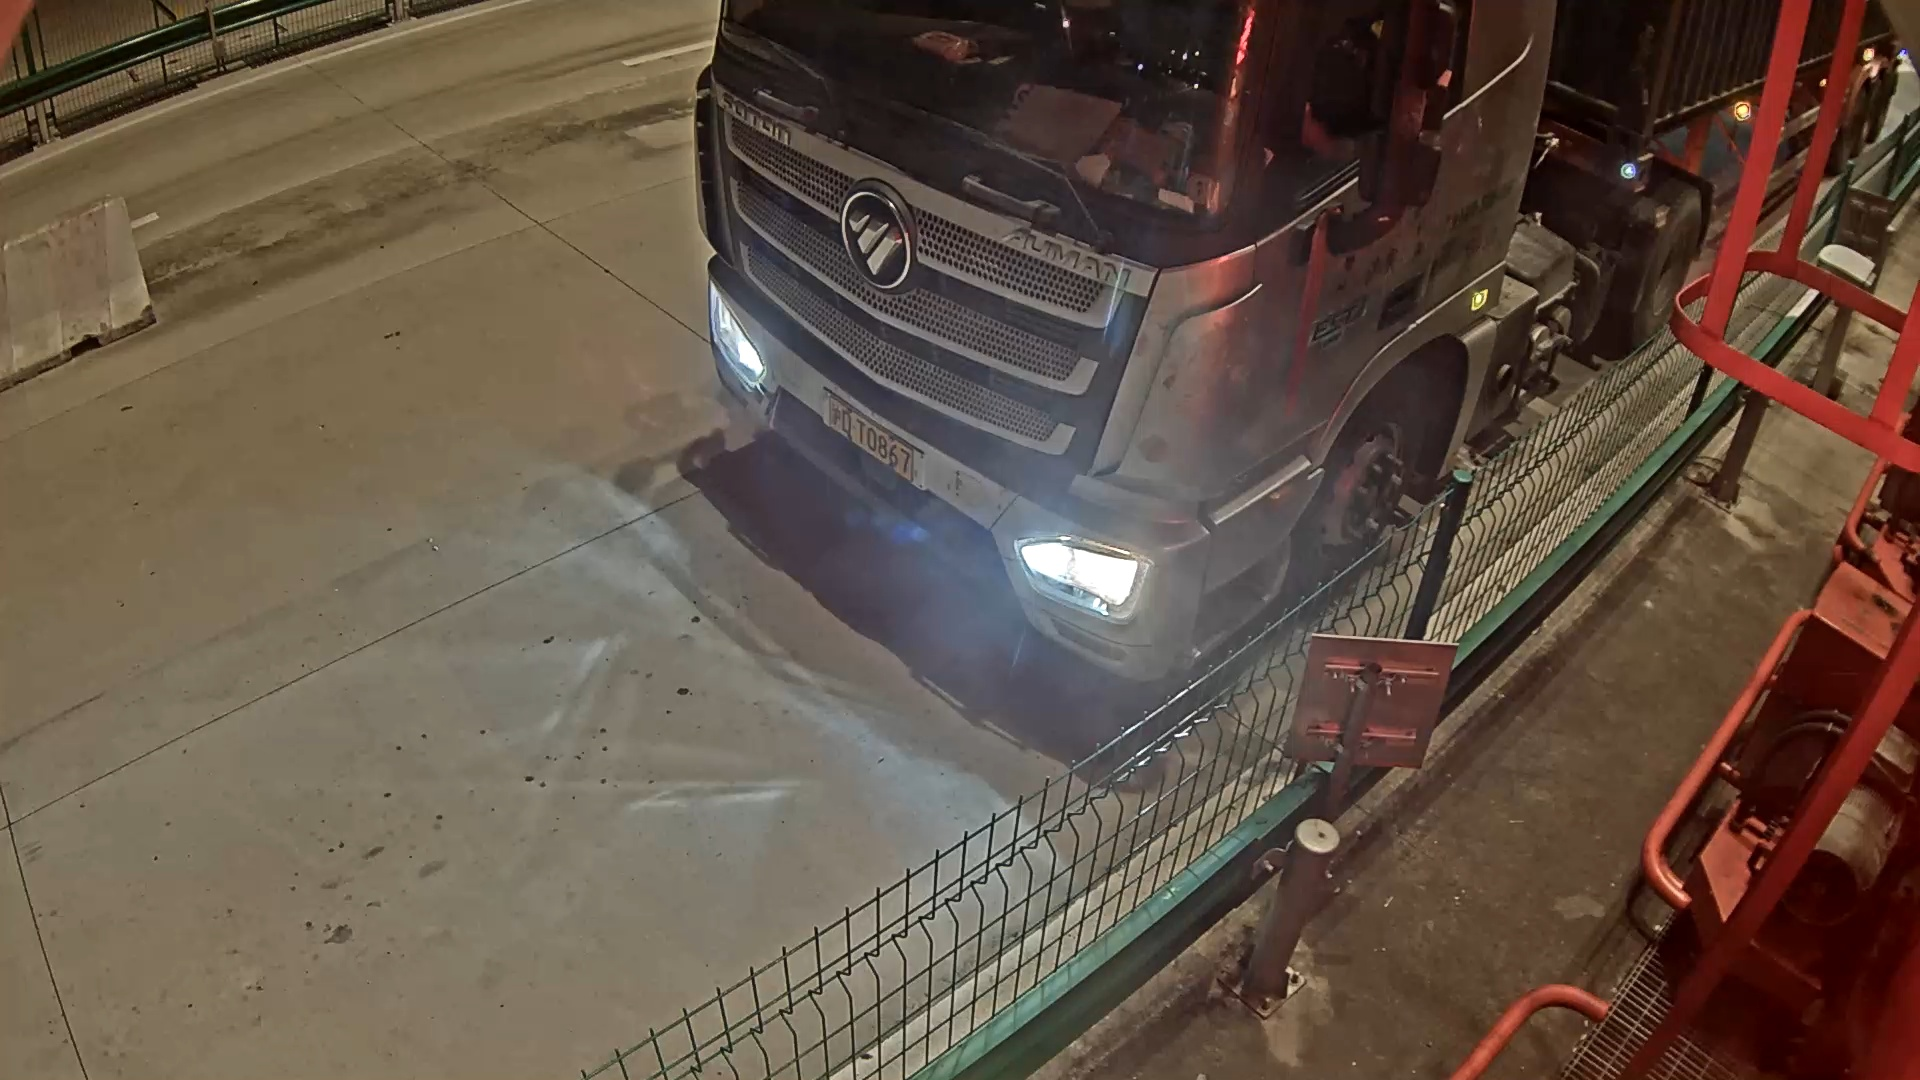head: (685, 15, 1396, 706)
plate: (821, 396, 933, 497)
